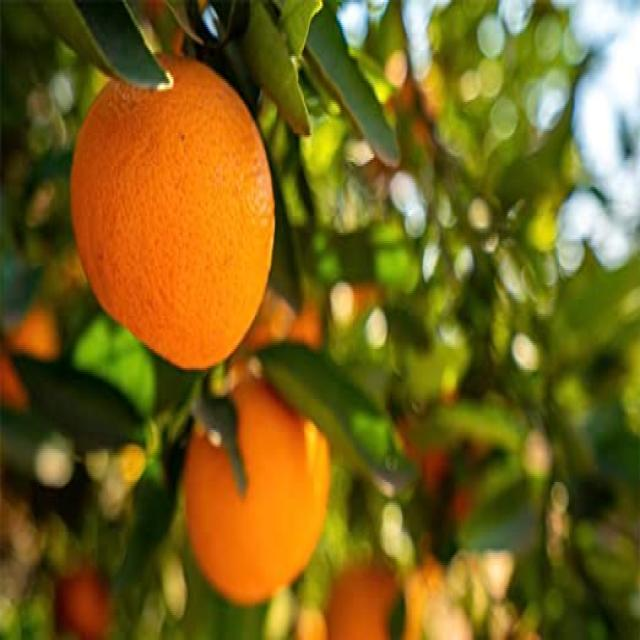Orange: (68, 51, 277, 370)
